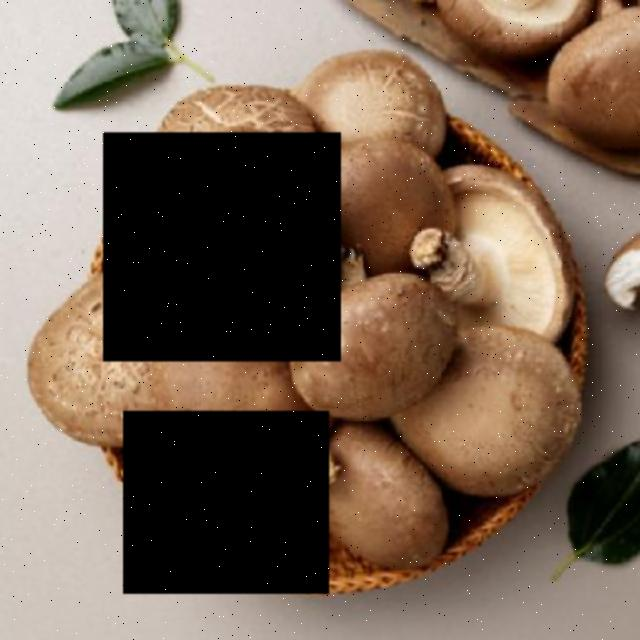Mushroom: (103, 132, 340, 362), (123, 411, 329, 594)
